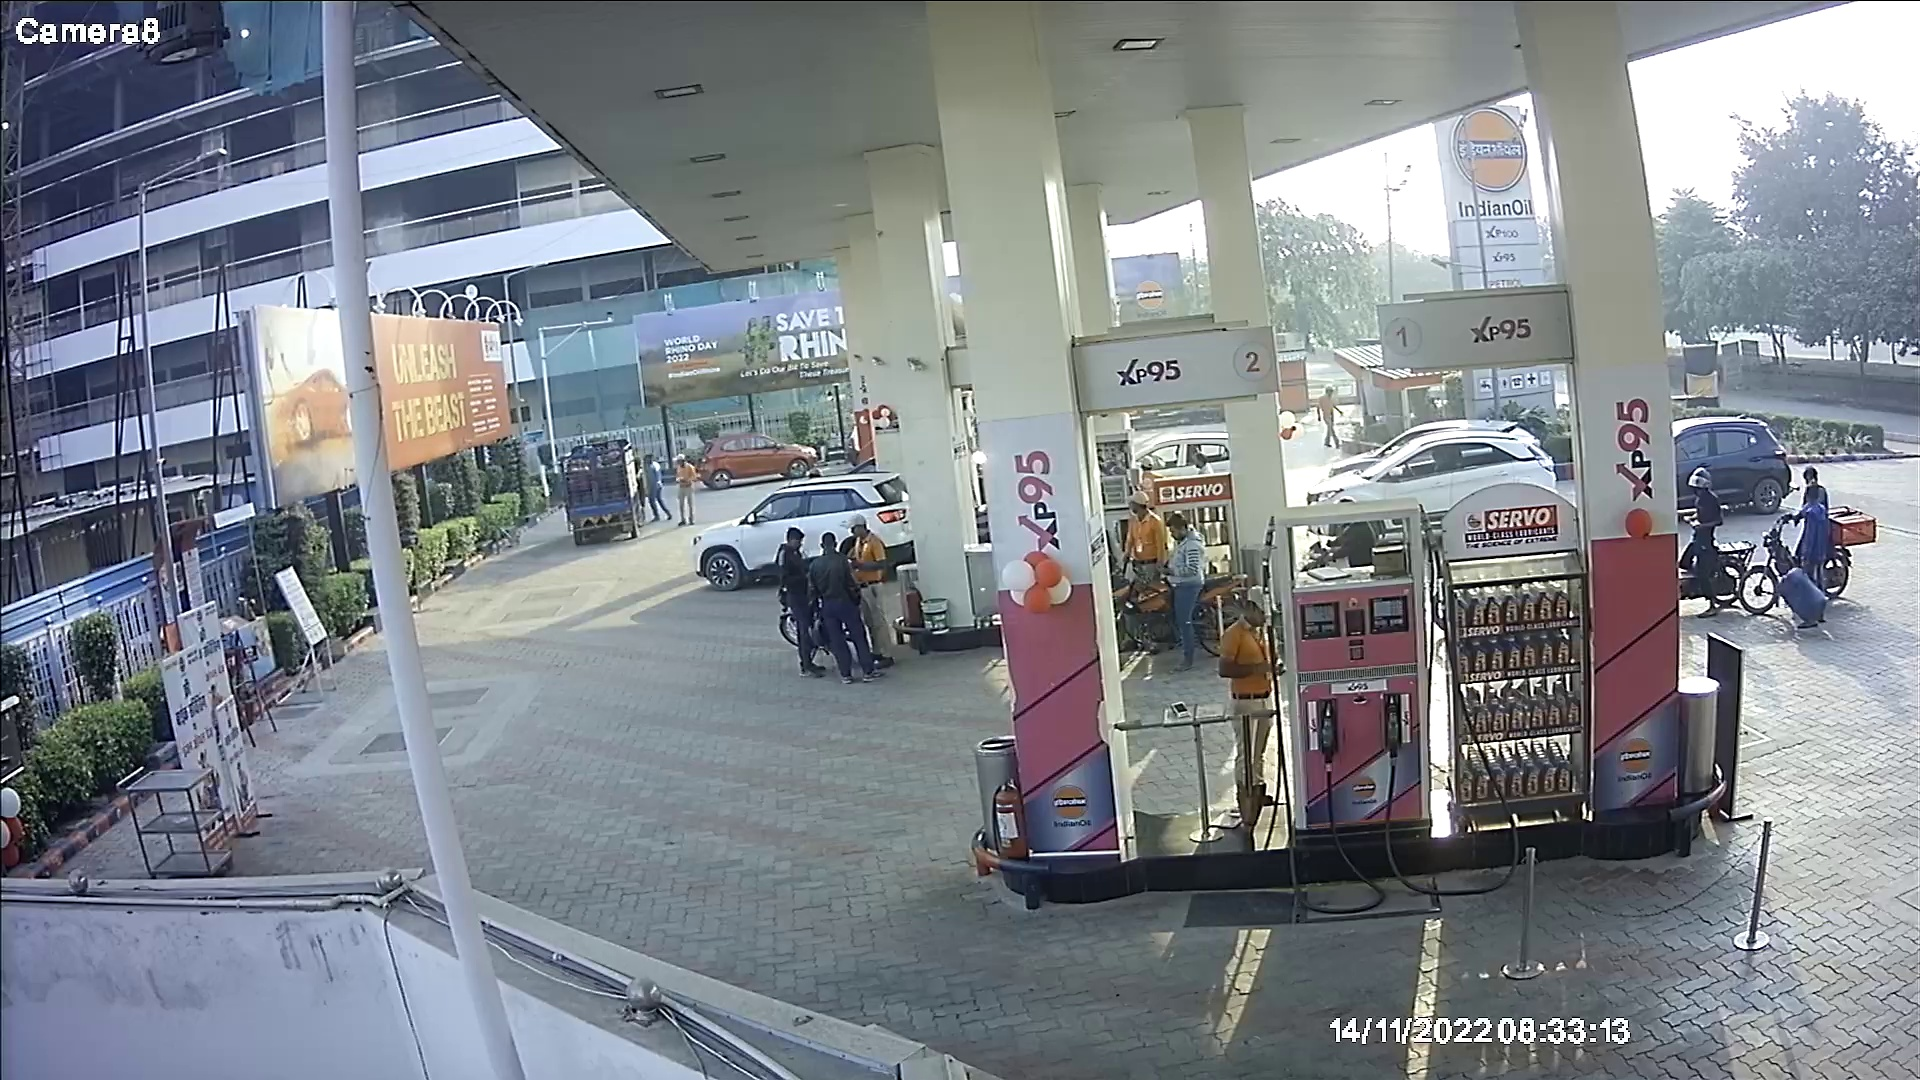Bike: (767, 504, 909, 694), (1106, 506, 1255, 680), (1731, 464, 1880, 633), (1675, 459, 1759, 626)
Car: (690, 458, 919, 599), (1298, 417, 1561, 530), (1294, 406, 1551, 487), (550, 426, 673, 554), (1669, 401, 1797, 521), (680, 417, 825, 497)
Others: (1211, 579, 1287, 812), (837, 506, 899, 674), (1113, 491, 1168, 585)
